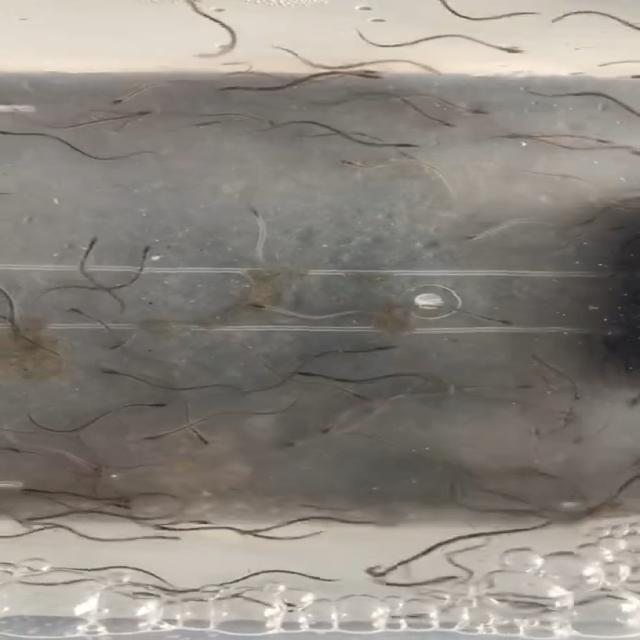active_glass_eel: (460, 224, 504, 244), (73, 233, 106, 258), (60, 300, 101, 319), (108, 334, 143, 355), (242, 300, 294, 314), (401, 59, 442, 76), (425, 110, 463, 128), (229, 524, 284, 536), (574, 132, 620, 146), (244, 202, 275, 222), (281, 436, 319, 452), (94, 364, 129, 381), (137, 242, 165, 263), (0, 441, 39, 456), (290, 369, 338, 381), (482, 44, 525, 57), (180, 48, 226, 60), (220, 83, 261, 96), (94, 499, 138, 511), (185, 430, 212, 449), (128, 522, 190, 530), (364, 563, 393, 580), (337, 159, 377, 171), (570, 431, 600, 447), (352, 70, 386, 84), (509, 382, 543, 396), (120, 110, 163, 121), (145, 531, 188, 542), (461, 104, 497, 117), (178, 514, 214, 527), (381, 140, 426, 150), (314, 420, 342, 436), (80, 459, 114, 472), (134, 400, 174, 411), (133, 433, 168, 445), (532, 424, 553, 442), (488, 315, 521, 326), (102, 96, 132, 107), (550, 9, 568, 26), (363, 343, 401, 351), (195, 118, 228, 126)
